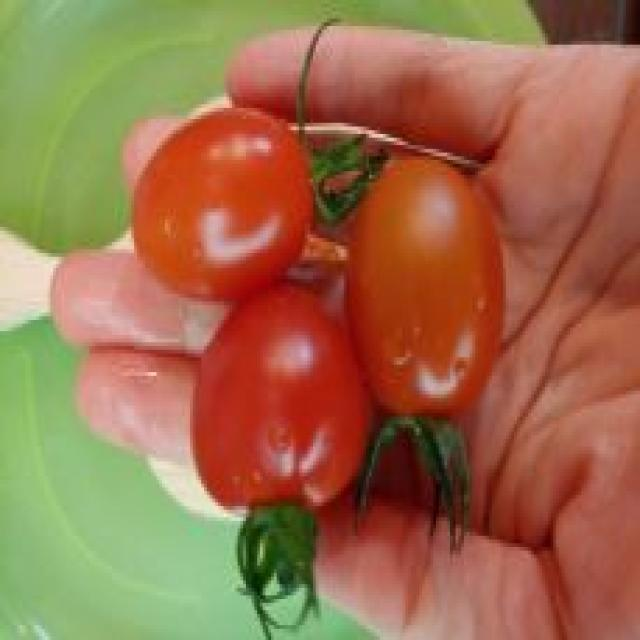level 5: (342, 132, 520, 431), (122, 93, 323, 314)
level 6: (168, 280, 381, 538)
